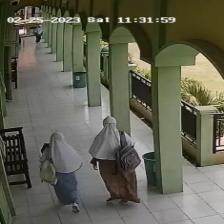HijabSyar-i: (37, 128, 84, 176), (89, 117, 138, 162)
